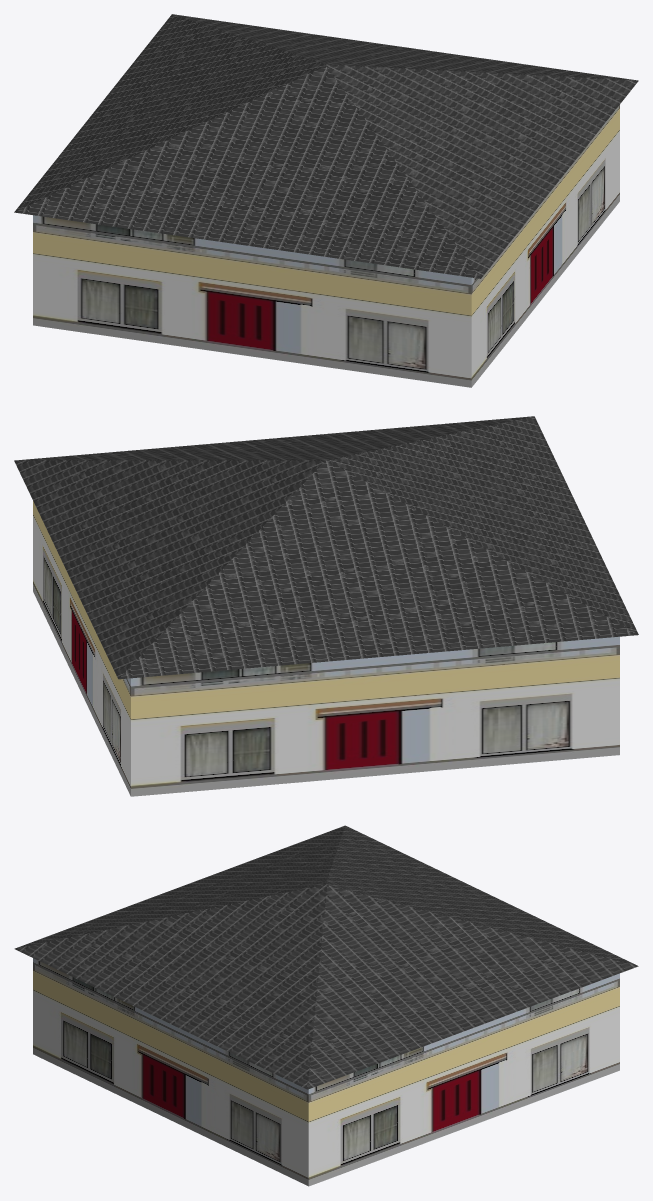
3 renders of one model, top to bottom at view 1: azimuth 30°, elevation 25°; view 2: azimuth 150°, elevation 25°; view 3: azimuth 270°, elevation 25°, orthographic. The views are drawn at different scales.
Parts seen in each view (by area): view 1: CityEngineMaterial_16_m, CityEngineMaterial_15_m; view 2: CityEngineMaterial_16_m, CityEngineMaterial_15_m; view 3: CityEngineMaterial_16_m, CityEngineMaterial_15_m.
Boxes of the visible parts, bbox=[...] form: CityEngineMaterial_16_m: bbox=[14, 14, 638, 278]; CityEngineMaterial_15_m: bbox=[33, 105, 619, 387]; CityEngineMaterial_16_m: bbox=[14, 416, 638, 679]; CityEngineMaterial_15_m: bbox=[33, 501, 619, 796]; CityEngineMaterial_16_m: bbox=[14, 825, 638, 1089]; CityEngineMaterial_15_m: bbox=[33, 958, 619, 1186].
Bounding box in the file's own units: 43.89 × 13.76 × 43.87.
